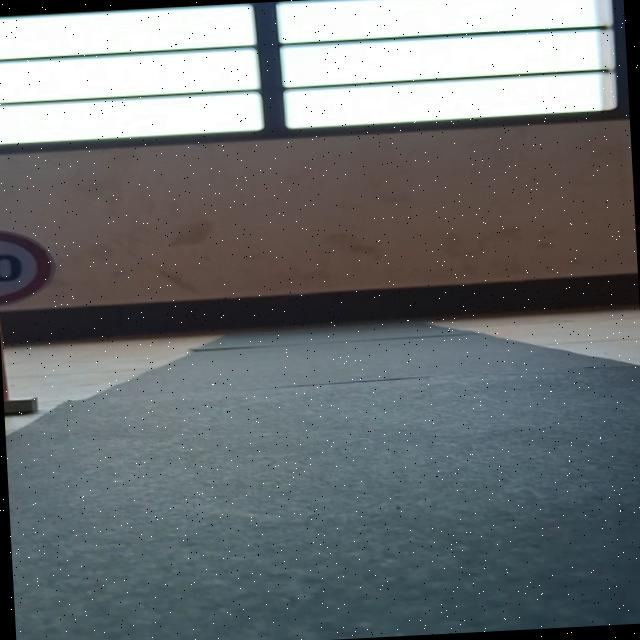Speed40: (0, 219, 62, 309)
